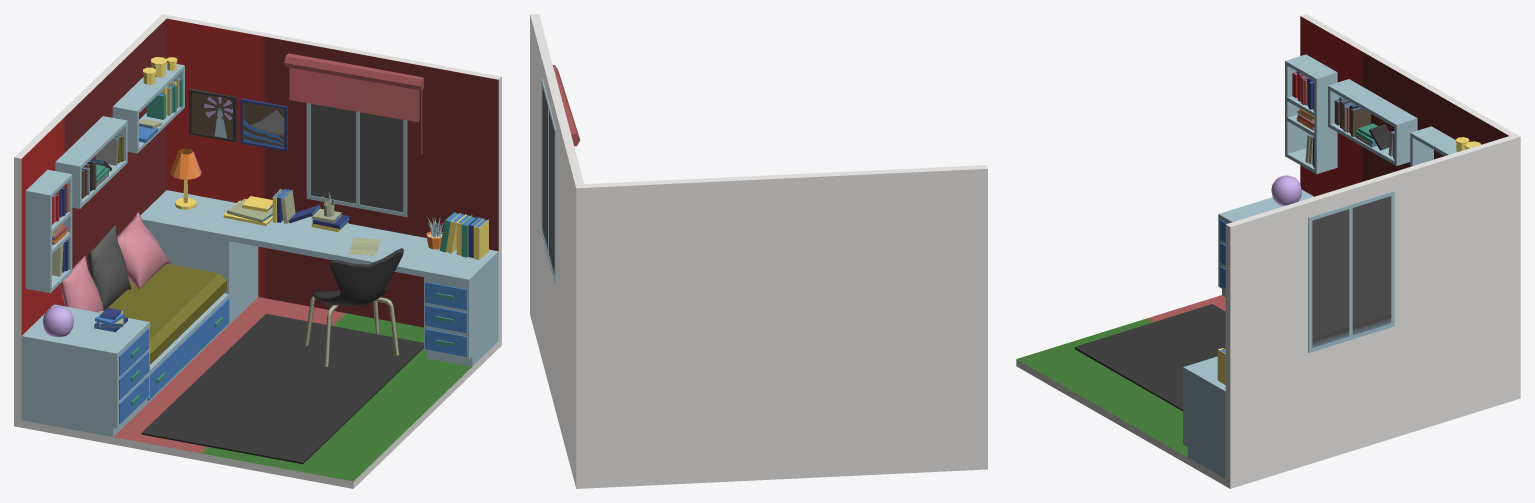
File: Bedroom_3.fbx
3 renders of one model, left to right at view 1: azimuth 30°, elevation 25°; view 2: azimuth 150°, elevation 25°; view 3: azimuth 270°, elevation 25°, orthographic. The views are drawn at different scales.
Visible parts, largest first — view 1: Bedroom3_base, Bedroom3_сonstruction, Bedroom3_carpet, Bedroom3_window, Bedroom3_Cornice, Bedroom3_pillows, Bedroom3_mattress, Bedroom3_shelf1, Bedroom3_chair, Bedroom3_shelf2, Bedroom3_Books9, Bedroom3_shelf3 (+9 smaller); view 2: Bedroom3_base, Bedroom3_window, Bedroom3_Cornice; view 3: Bedroom3_base, Bedroom3_window, Bedroom3_carpet, Bedroom3_сonstruction, Bedroom3_shelf1, Bedroom3_shelf2, Bedroom3_shelf3, Bedroom3_Books5, Bedroom3_lamp2, Bedroom3_Books6, Bedroom3_Books1.
Part boxes in pixels (x1=…): Bedroom3_base: x1=14, y1=14, x2=501, y2=488; Bedroom3_сonstruction: x1=21, y1=190, x2=498, y2=436; Bedroom3_carpet: x1=141, y1=313, x2=423, y2=464; Bedroom3_window: x1=306, y1=103, x2=407, y2=216; Bedroom3_Cornice: x1=284, y1=53, x2=423, y2=154; Bedroom3_pillows: x1=60, y1=212, x2=170, y2=312; Bedroom3_mattress: x1=108, y1=264, x2=226, y2=364; Bedroom3_shelf1: x1=25, y1=169, x2=72, y2=293; Bedroom3_chair: x1=304, y1=248, x2=403, y2=366; Bedroom3_shelf2: x1=55, y1=116, x2=127, y2=208; Bedroom3_Books9: x1=223, y1=189, x2=349, y2=232; Bedroom3_shelf3: x1=112, y1=63, x2=184, y2=153; Bedroom3_base: x1=530, y1=14, x2=987, y2=488; Bedroom3_window: x1=541, y1=78, x2=556, y2=284; Bedroom3_Cornice: x1=553, y1=65, x2=580, y2=146; Bedroom3_base: x1=1016, y1=14, x2=1520, y2=488; Bedroom3_window: x1=1308, y1=191, x2=1394, y2=352; Bedroom3_carpet: x1=1074, y1=304, x2=1225, y2=411; Bedroom3_сonstruction: x1=1183, y1=189, x2=1313, y2=478; Bedroom3_shelf1: x1=1285, y1=54, x2=1337, y2=174; Bedroom3_shelf2: x1=1328, y1=79, x2=1417, y2=165; Bedroom3_shelf3: x1=1410, y1=126, x2=1456, y2=166; Bedroom3_Books5: x1=1334, y1=96, x2=1370, y2=136; Bedroom3_lamp2: x1=1271, y1=175, x2=1301, y2=205; Bedroom3_Books6: x1=1355, y1=123, x2=1390, y2=150; Bedroom3_Books1: x1=1292, y1=71, x2=1314, y2=110.
Bounding box in the file's own units: 699 × 401 × 699.
